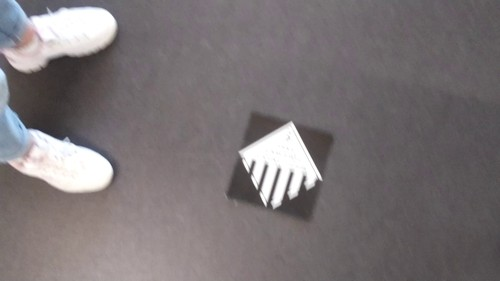misgoods: (225, 119, 331, 205)
